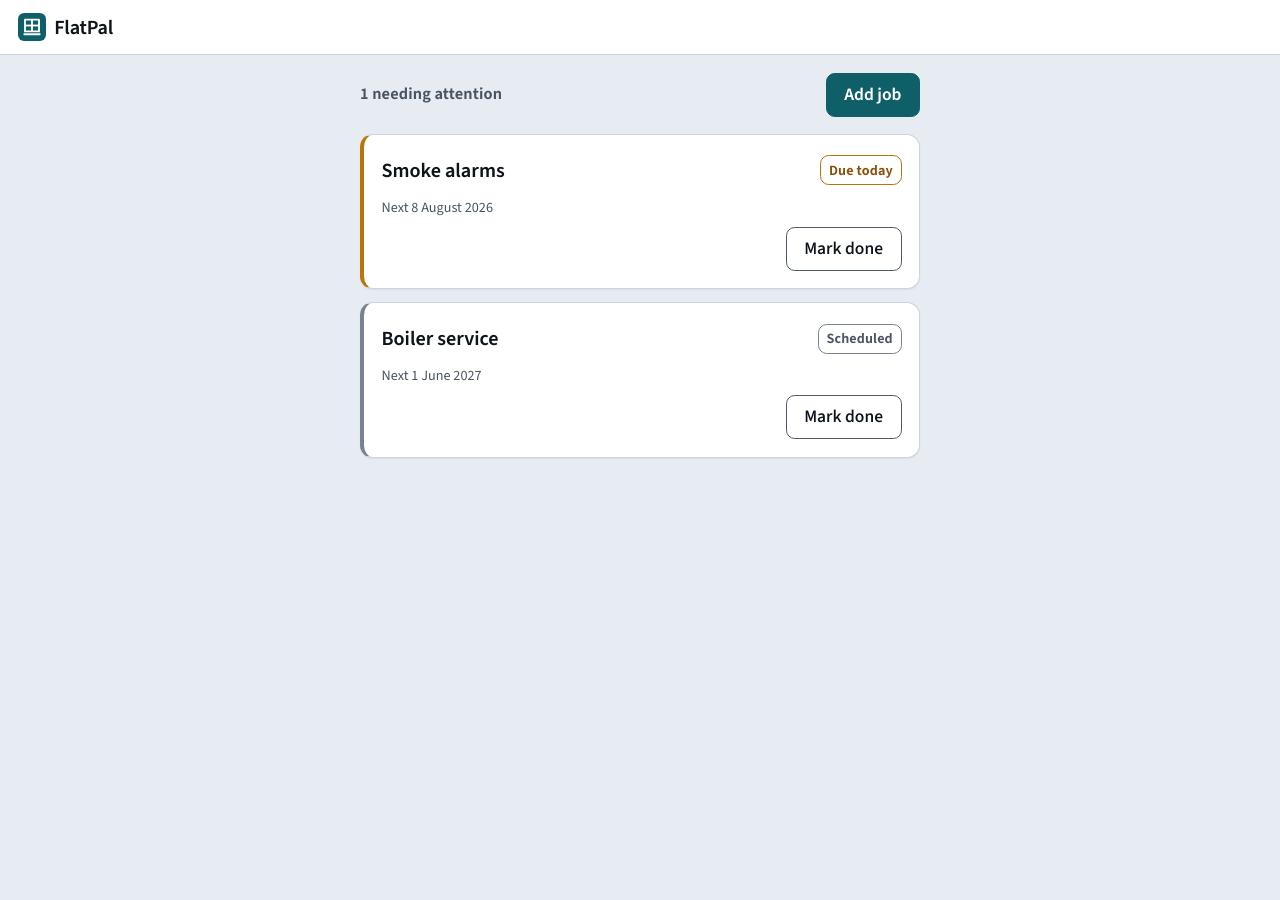
removing a completion and the undo offer › does not bring back an offer for a tick-off recorded earlier in the session
Expected: the button "Smoke alarms" is shown, 382,148 -> 505,192
Click the button "Mark done" below "Scheduled" at coordinates (844, 417), box 786,395 -> 902,439
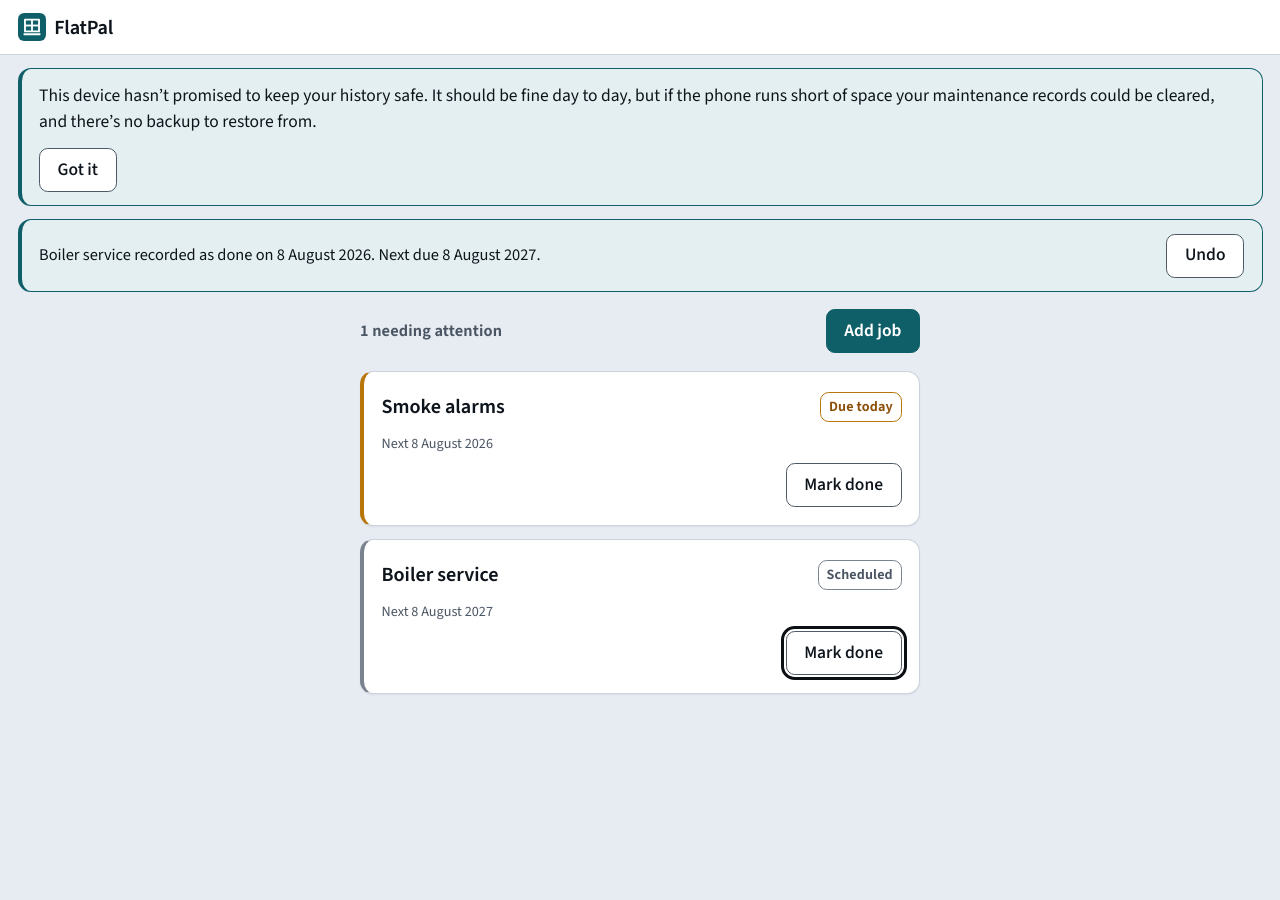
Click the button "Mark done" below "Due today" at coordinates (844, 485), box 786,463 -> 902,507
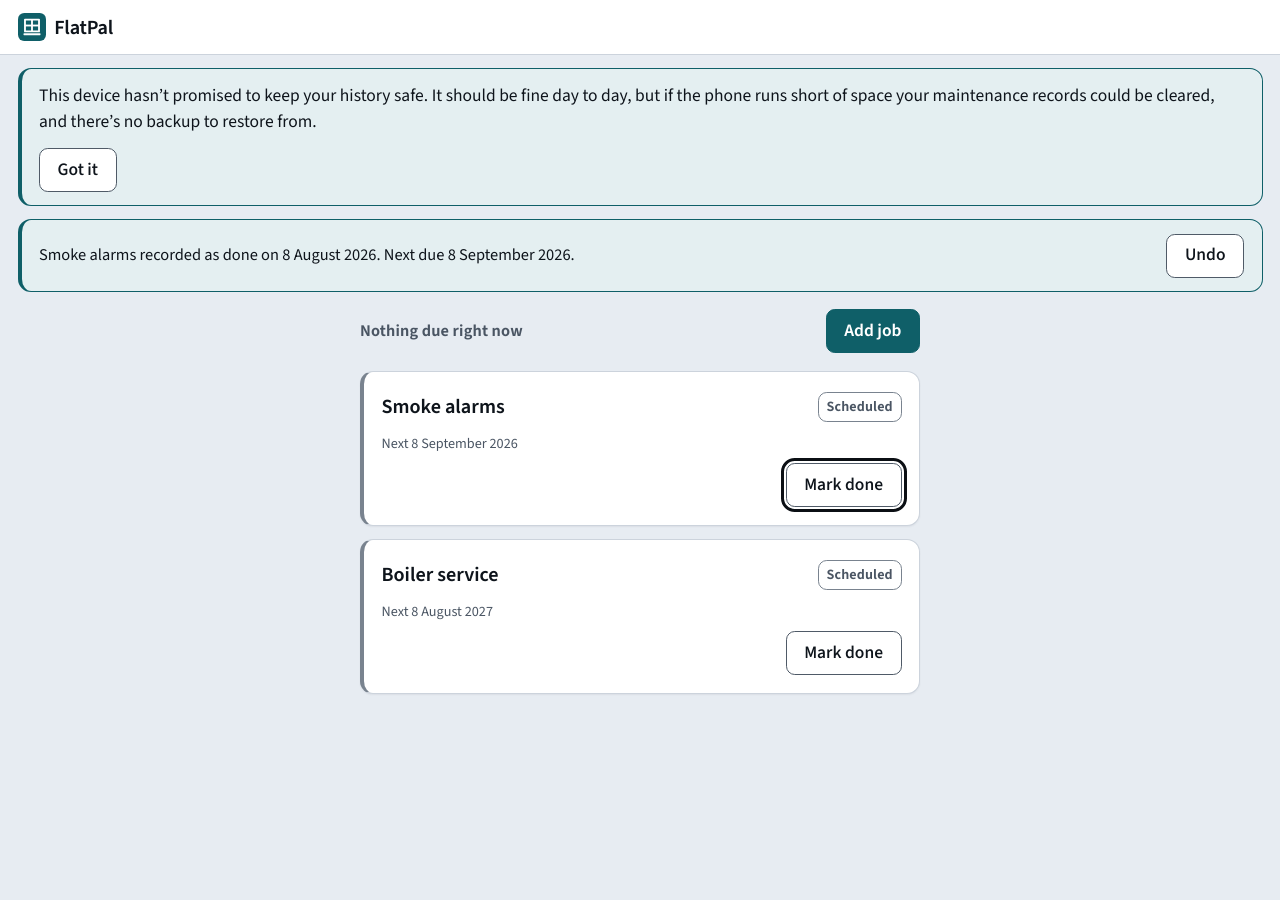
Now the button named "Undo recording Smoke alarms as done" is shown, box 1166,234 -> 1244,278
Click the button "Smoke alarms" at coordinates (443, 407), box 382,385 -> 505,429
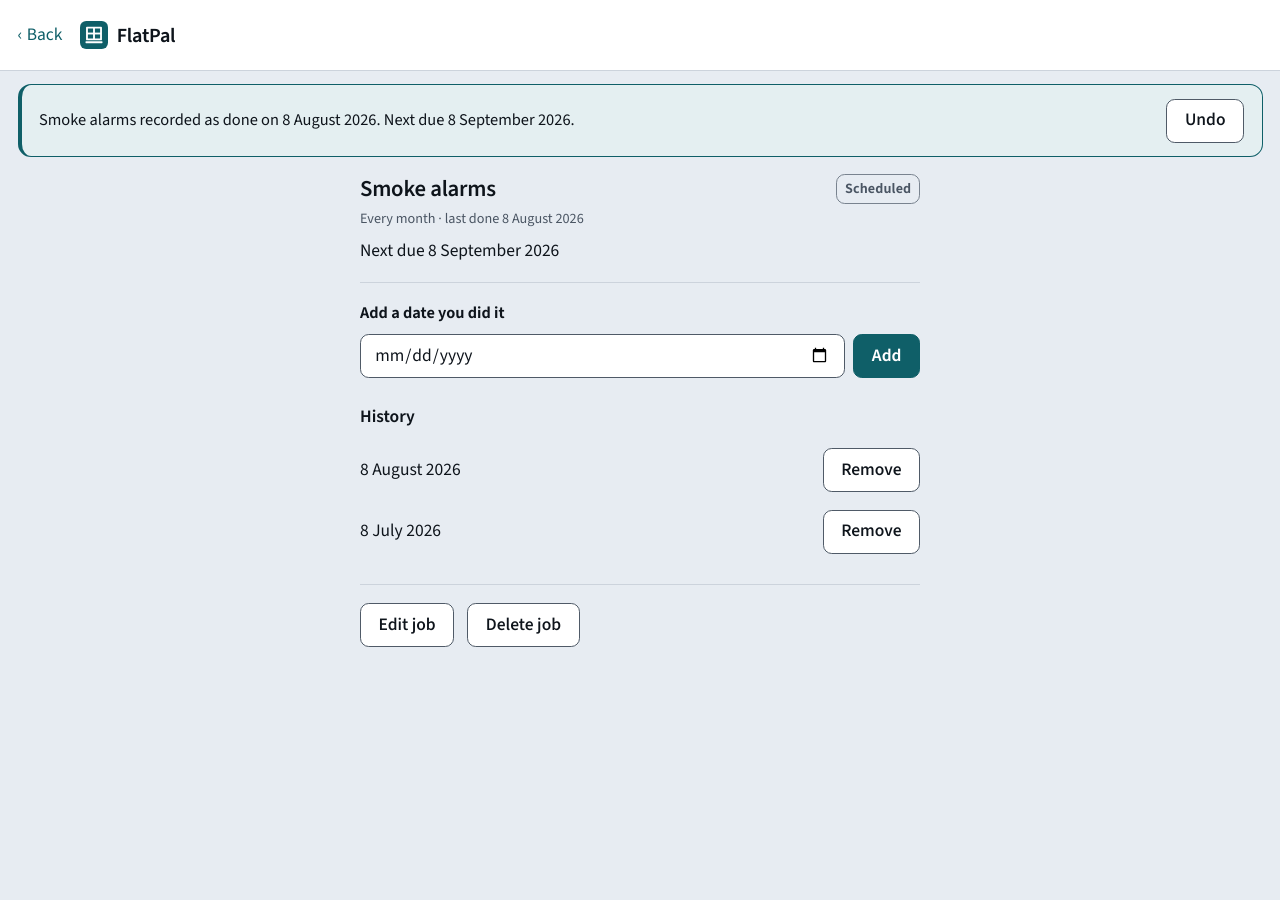
Click the button named "Remove the completion on 8 August 2026" at coordinates (871, 470), box 823,448 -> 920,492
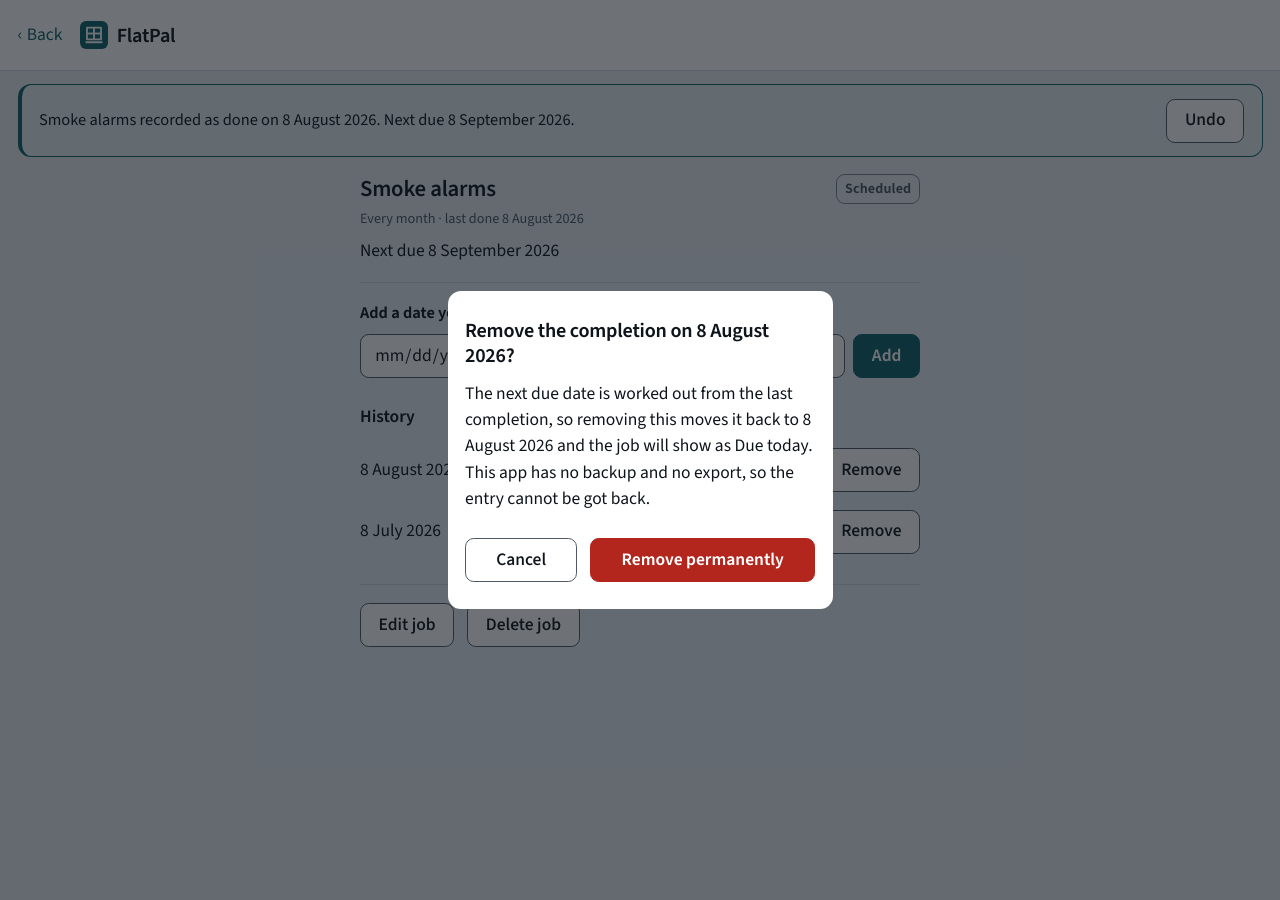
Click the button "Remove permanently" at coordinates (703, 560), box 590,538 -> 815,582
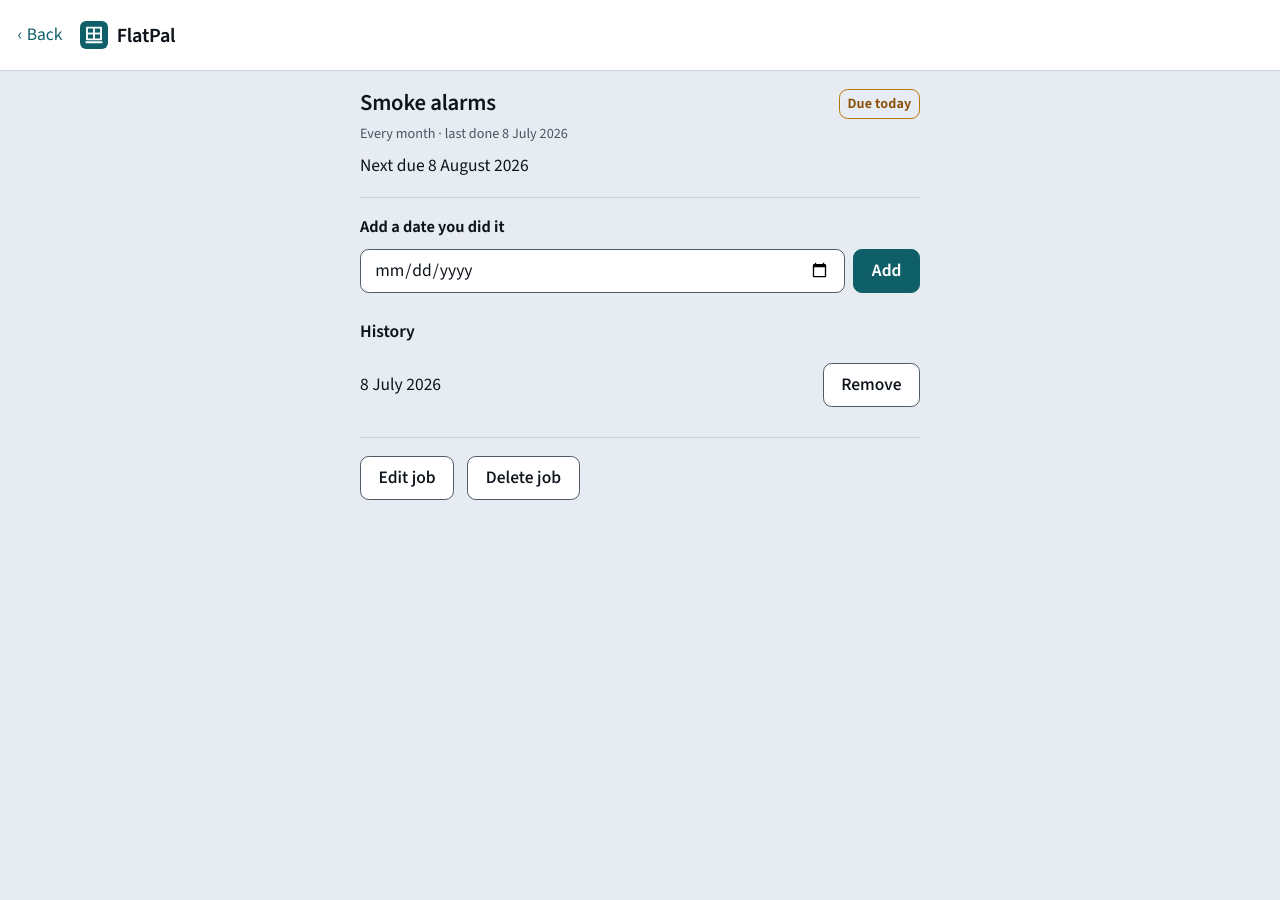
Now the text "Next due 8 August 2026" is shown, box 360,153 -> 529,178
Now the button "Undo" is gone
